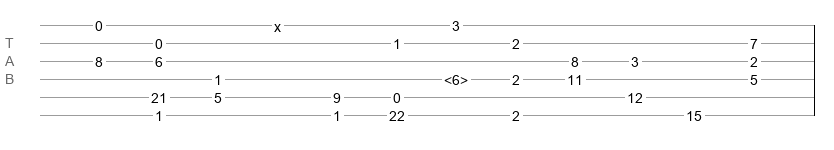0: (95, 18, 103, 28), (155, 36, 163, 46), (393, 90, 401, 100)
1: (155, 108, 163, 118), (214, 72, 222, 82), (333, 108, 341, 118), (393, 36, 401, 46)
11: (567, 72, 583, 82)
12: (627, 90, 643, 100)
15: (686, 108, 702, 118)
2: (512, 108, 520, 118), (512, 72, 520, 82), (512, 36, 520, 46), (750, 54, 758, 64)
21: (151, 90, 167, 100)
22: (389, 108, 405, 118)
3: (452, 18, 460, 28), (631, 54, 639, 64)
5: (214, 90, 222, 100), (750, 72, 758, 82)
6: (155, 54, 163, 64)
7: (750, 36, 758, 46)
8: (95, 54, 103, 64), (571, 54, 579, 64)
9: (333, 90, 341, 100)
harmonic: (444, 72, 468, 82)
x: (274, 19, 281, 27)
